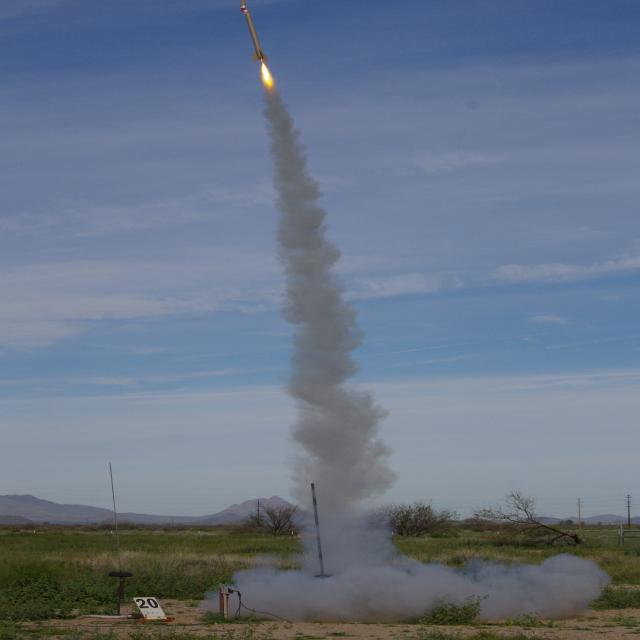Rocket: (235, 0, 273, 62)
